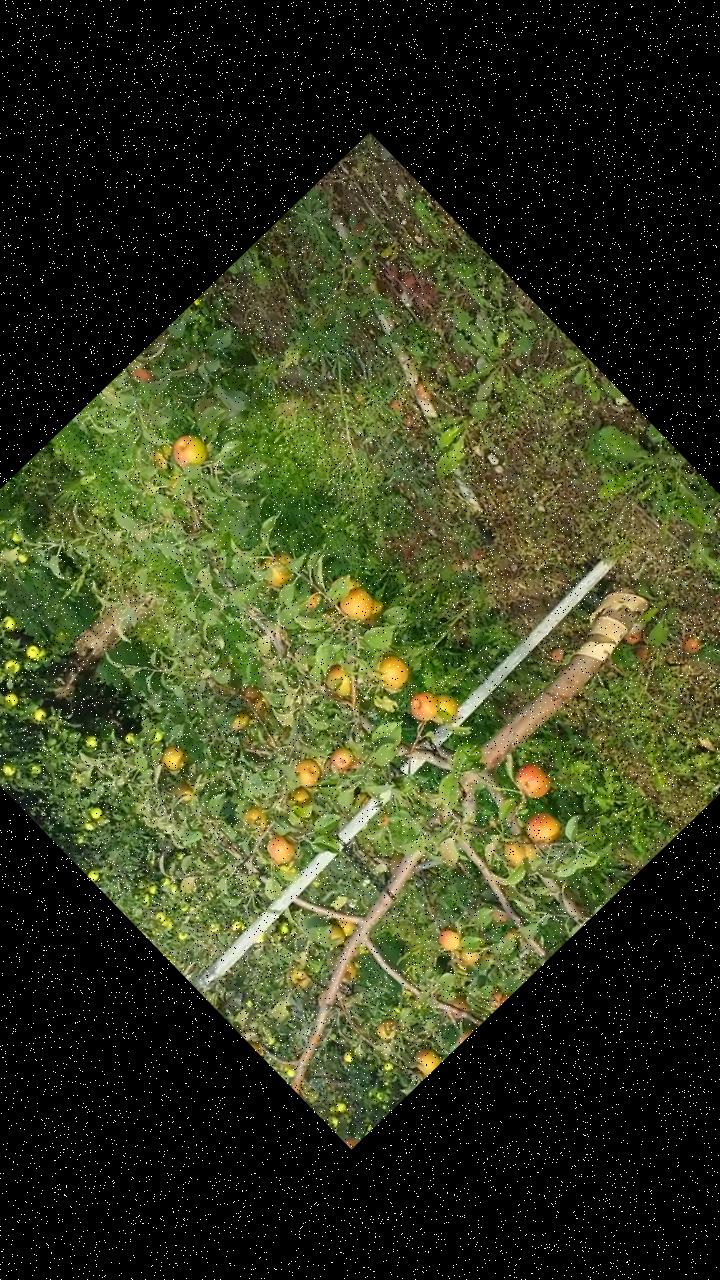Apple: (505, 754, 558, 807), (364, 647, 416, 699), (164, 426, 216, 478), (334, 578, 382, 628), (495, 828, 544, 876), (518, 806, 567, 854), (255, 546, 302, 594), (420, 686, 466, 732), (258, 826, 303, 872), (317, 660, 361, 704), (286, 750, 328, 792), (402, 685, 444, 727), (354, 594, 394, 634), (154, 738, 192, 776), (235, 802, 272, 839), (408, 1042, 443, 1076), (324, 740, 359, 774), (440, 990, 474, 1024), (148, 442, 182, 476), (370, 1014, 403, 1048), (432, 923, 464, 956), (284, 782, 316, 814), (280, 963, 312, 994), (330, 909, 362, 940), (332, 956, 362, 986), (167, 780, 197, 810), (318, 918, 348, 948), (380, 847, 410, 877), (127, 362, 157, 392), (246, 692, 272, 718), (239, 680, 264, 706), (300, 589, 326, 614), (226, 709, 251, 734), (246, 1034, 270, 1058), (450, 1024, 473, 1047), (343, 753, 366, 776), (339, 572, 362, 594), (488, 907, 509, 928), (487, 988, 508, 1008), (343, 1132, 361, 1150), (495, 989, 512, 1006), (358, 623, 360, 624)
